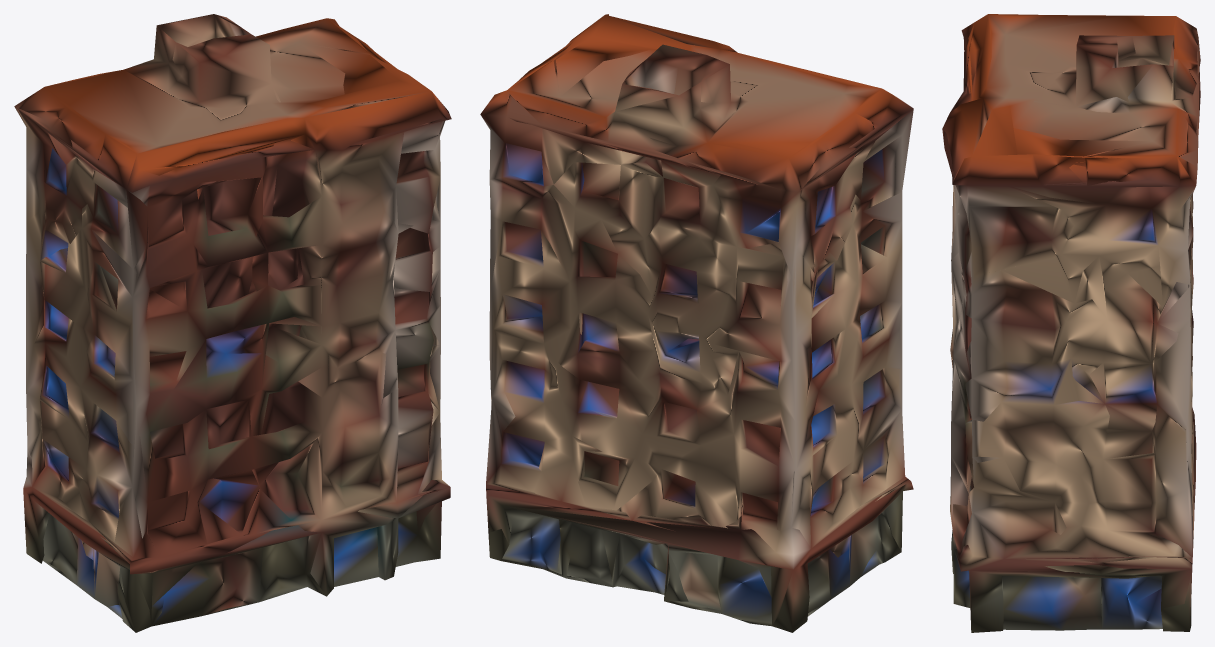
The model's file is gen3d-apartment-block-lod0.glb.
The picture shows the model from 3 angles, left to right: view 1: azimuth 30°, elevation 25°; view 2: azimuth 150°, elevation 25°; view 3: azimuth 270°, elevation 25°; orthographic projection.
Visible parts, largest first — view 1: part_0; view 2: part_0; view 3: part_0.
Part boxes in pixels (box(x1,y1,x2,y2)): part_0: box(14, 14, 451, 632); part_0: box(480, 14, 913, 632); part_0: box(942, 14, 1200, 632).
Size of the model in its own units: 0.6699 by 0.9999 by 0.4591.
